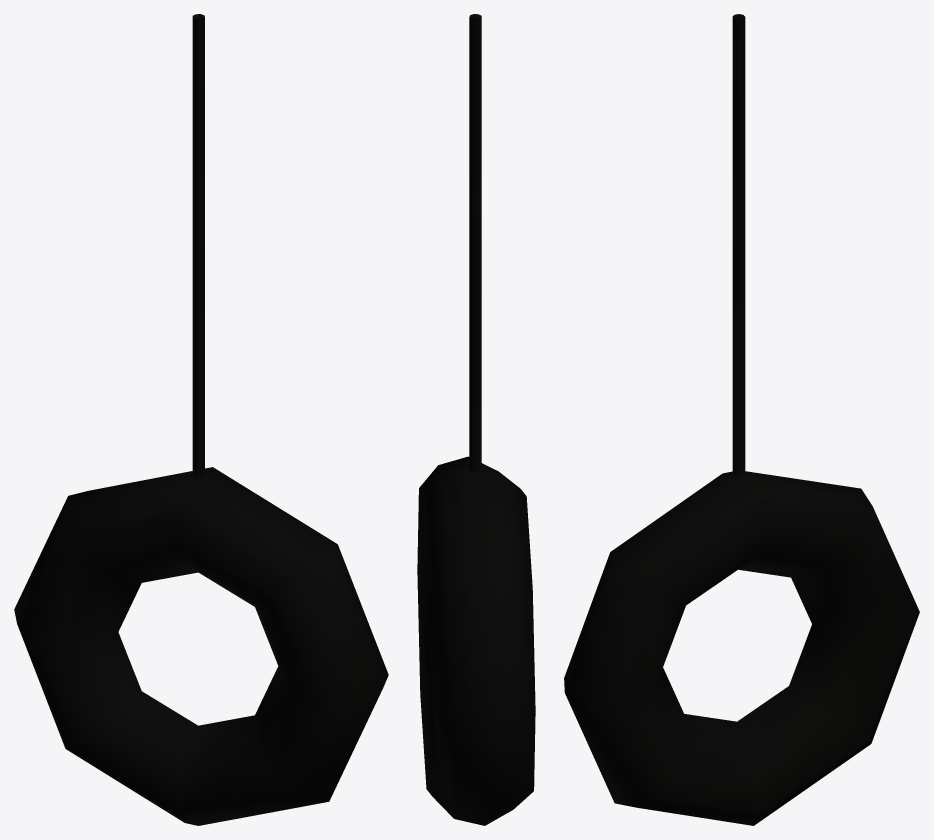
The model's file is swing.fbx.
3 views of the same model, side by side, from view 1: azimuth 30°, elevation 25°; view 2: azimuth 150°, elevation 25°; view 3: azimuth 270°, elevation 25° (orthographic).
Parts seen in each view (by area): view 1: polySurface1498; view 2: polySurface1498; view 3: polySurface1498.
Boxes of the visible parts, x1=… form: polySurface1498: x1=14, y1=14, x2=388, y2=825; polySurface1498: x1=417, y1=14, x2=535, y2=825; polySurface1498: x1=564, y1=14, x2=919, y2=825.
Size of the model in its own units: 2.13 by 7.01 by 2.81.
